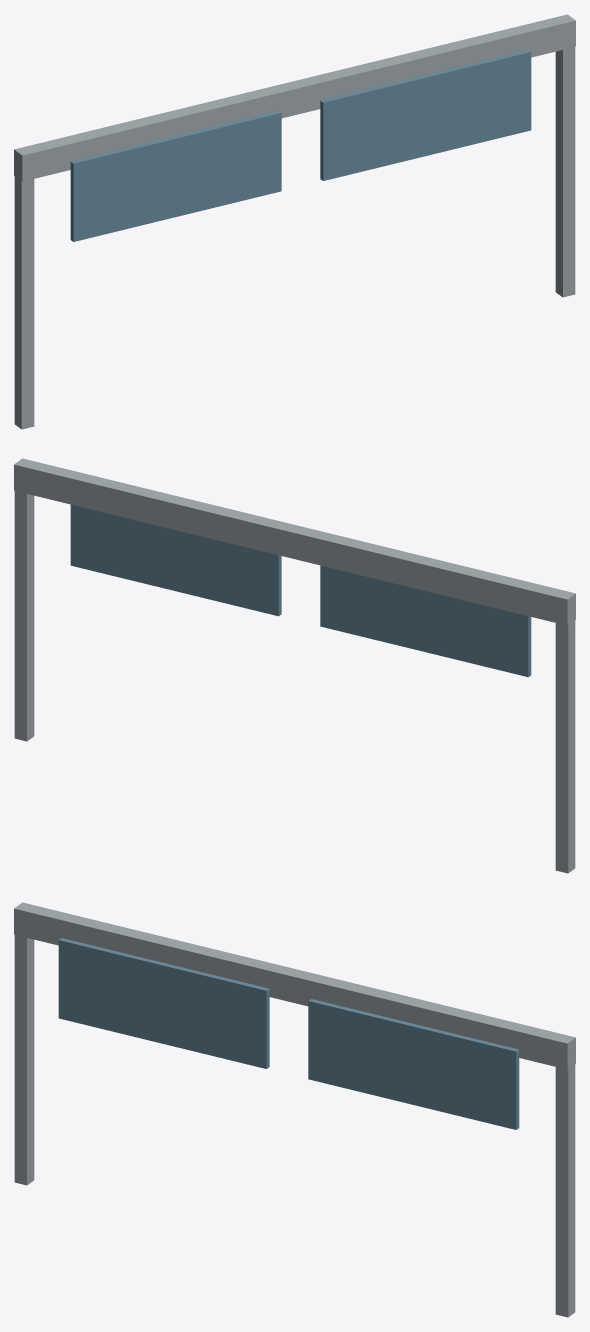
File: long-haul-trucking-and-truck-stop-highway-sign-gantry-9ef4798e__13981.glb
The picture shows the model from 3 angles, top to bottom: view 1: azimuth 30°, elevation 25°; view 2: azimuth 150°, elevation 25°; view 3: azimuth 330°, elevation 25°; orthographic projection.
Parts seen in each view (by area): view 1: highway-sign-gantry; view 2: highway-sign-gantry; view 3: highway-sign-gantry.
Boxes of the visible parts, x1,y1,x2,y2 form: highway-sign-gantry: [14, 14, 575, 429]; highway-sign-gantry: [14, 458, 575, 873]; highway-sign-gantry: [14, 902, 575, 1317].
Size of the model in its own units: 13.3 by 6.3 by 0.4851.
